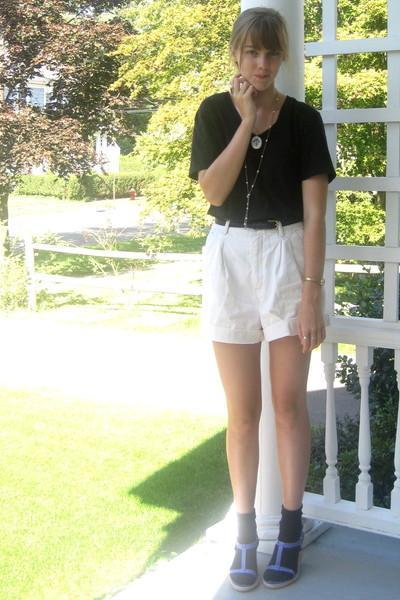shirt: (189, 88, 336, 230)
shoe: (232, 504, 308, 589)
shorts: (189, 215, 308, 347)
